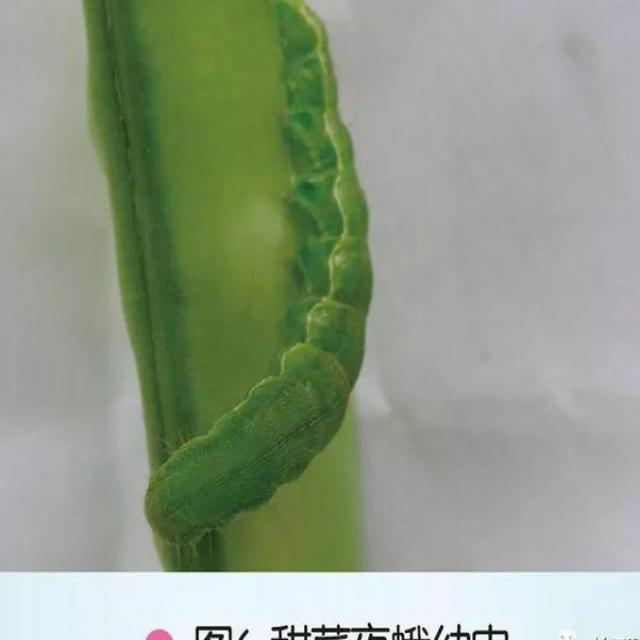BeetArmyWorm-Larva-: (118, 2, 380, 555)
